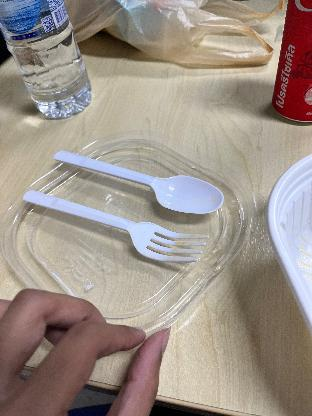Others: (16, 180, 212, 268), (51, 148, 229, 214)
Plastic Bottle: (0, 0, 94, 118)
